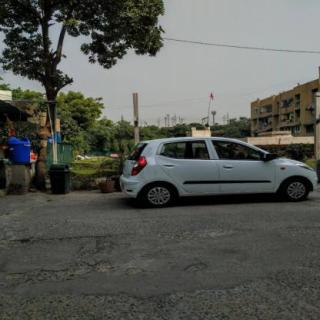Normal_vehicle: (120, 137, 317, 207)
